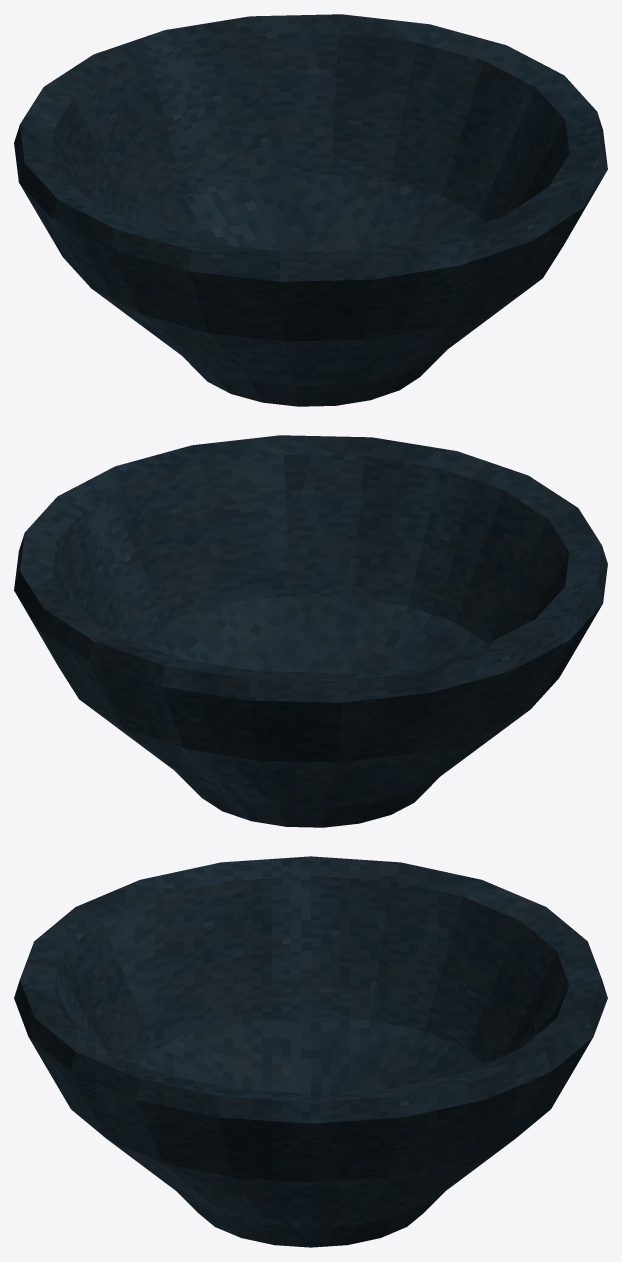
File: level_loose_bowl_worn.glb
3 renders of one model, top to bottom at view 1: azimuth 30°, elevation 25°; view 2: azimuth 150°, elevation 25°; view 3: azimuth 270°, elevation 25°, orthographic.
Parts seen in each view (by area): view 1: level_loose_bowl_worn; view 2: level_loose_bowl_worn; view 3: level_loose_bowl_worn.
Boxes of the visible parts, bbox=[...] form: level_loose_bowl_worn: bbox=[14, 14, 607, 406]; level_loose_bowl_worn: bbox=[14, 435, 607, 827]; level_loose_bowl_worn: bbox=[14, 856, 607, 1247].
Size of the model in its own units: 0.2 by 0.081 by 0.2.
Materials: 1 (1 with a texture image).
